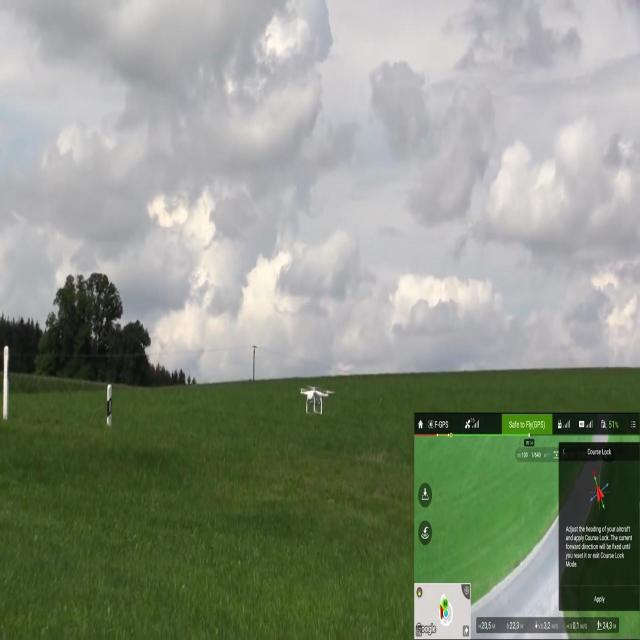drone: (299, 382, 333, 416)
